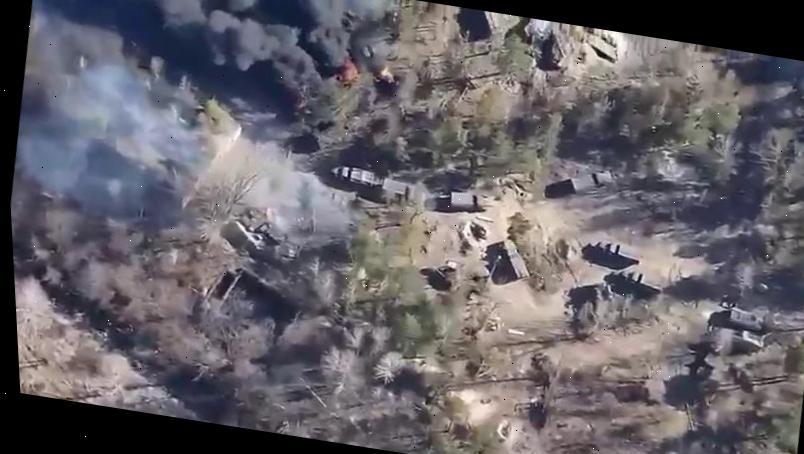truck: (566, 163, 616, 199), (324, 162, 376, 196), (495, 238, 533, 280), (366, 173, 413, 204), (443, 186, 491, 216), (617, 268, 663, 294), (720, 307, 767, 332), (595, 238, 641, 263)
